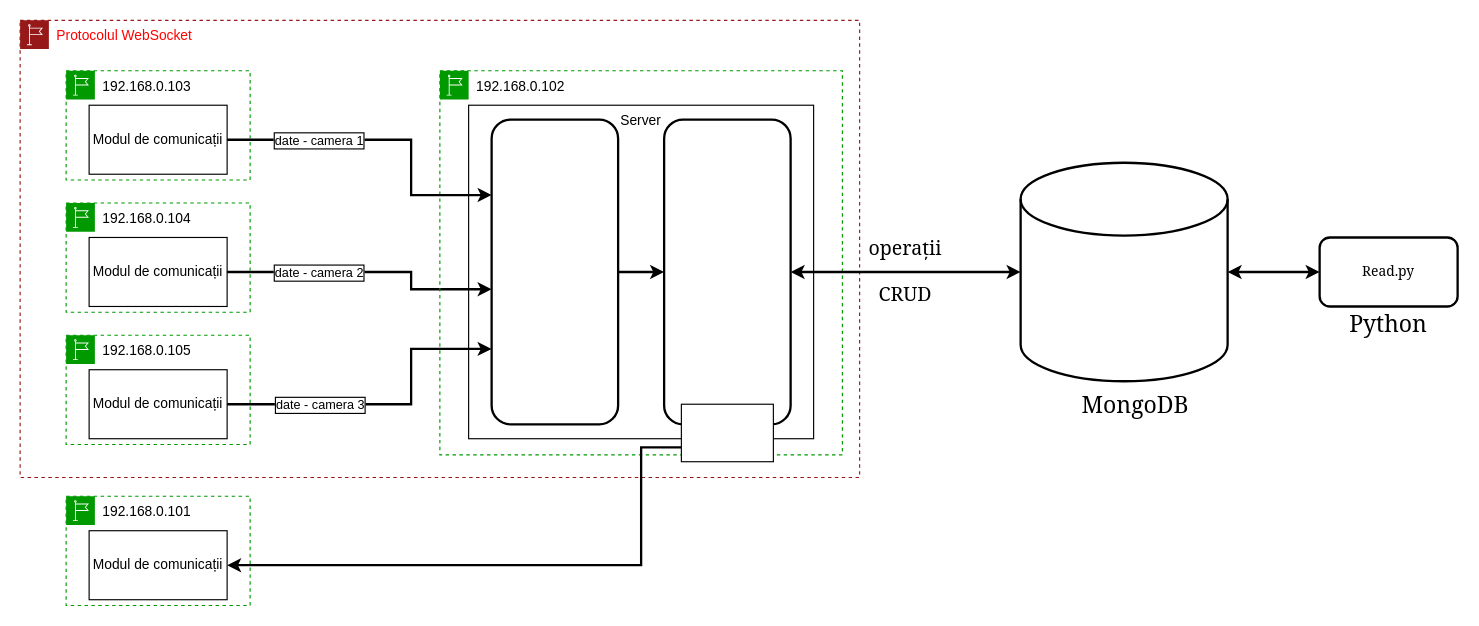
Image size: 1479x626. Some labels were removed from this diagram. Here are the shapes that lost their labels. From the top down, the centre of each, then its label:
the point at 554,271: WebSocket 3000
the point at 726,271: Logica de business
the point at 1123,271: Bază de date
the point at 726,432: REST API
